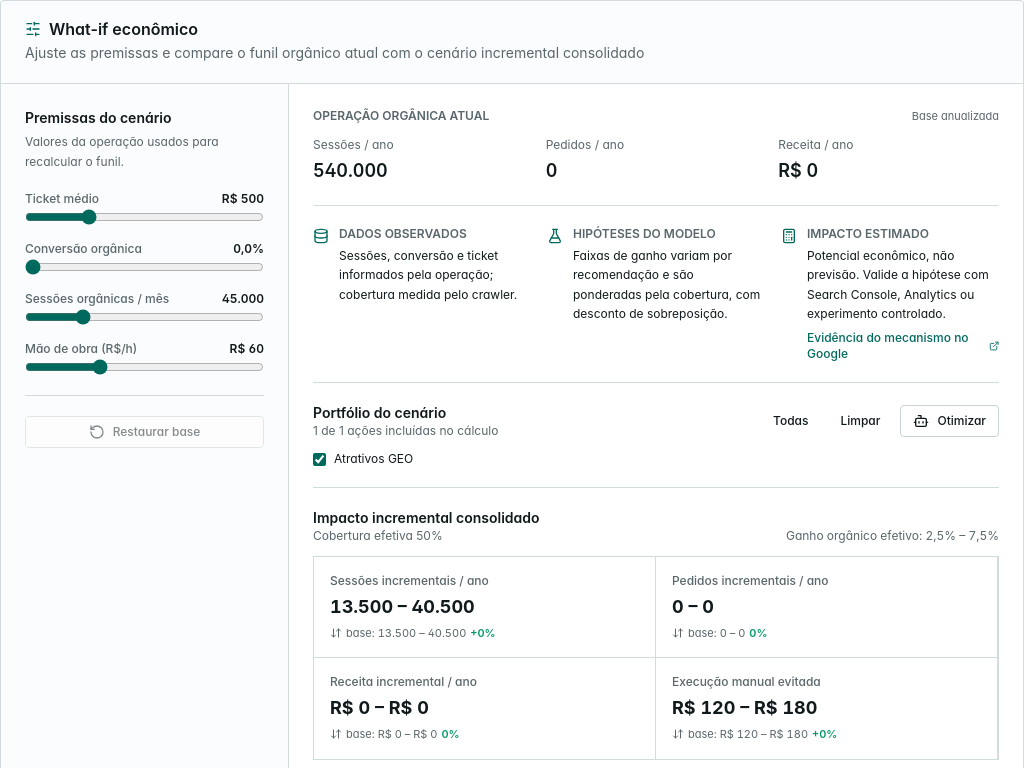
Test: WhatIfPanel › não apresenta crescimento percentual artificial sobre uma base zero
Set the slider labelled "Conversão orgânica" to "2": [78, 267] box [25, 263, 264, 271]
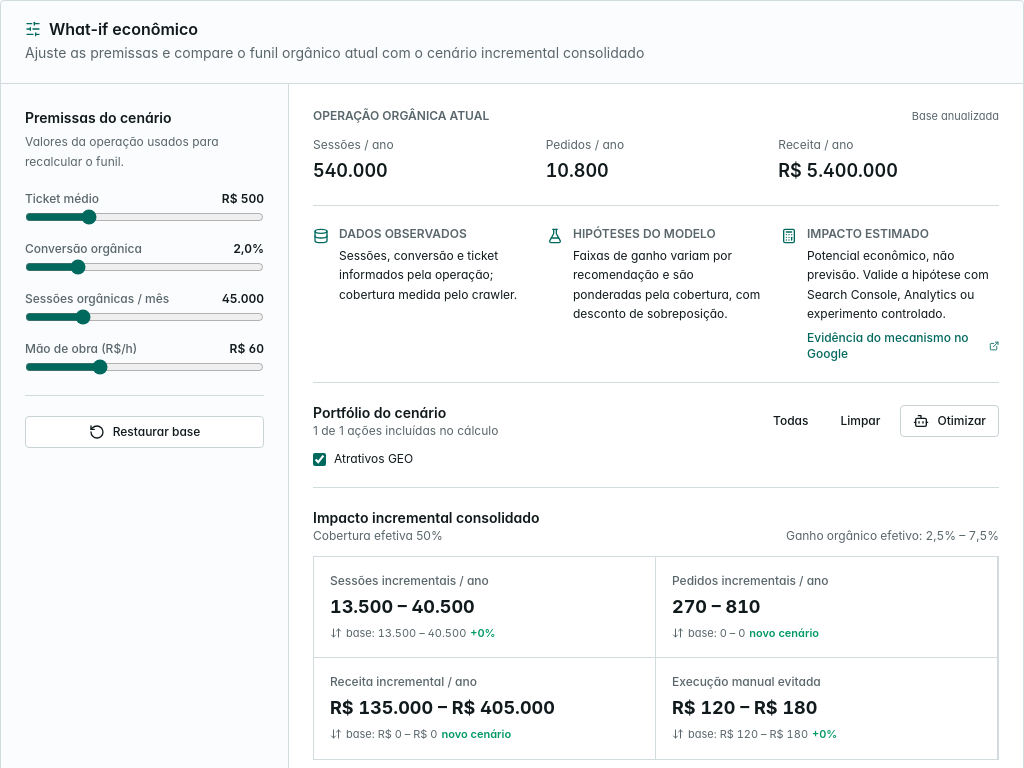
Result: the text with test id "delta-receita" reads "novo cenário" at [442, 727, 511, 741]
